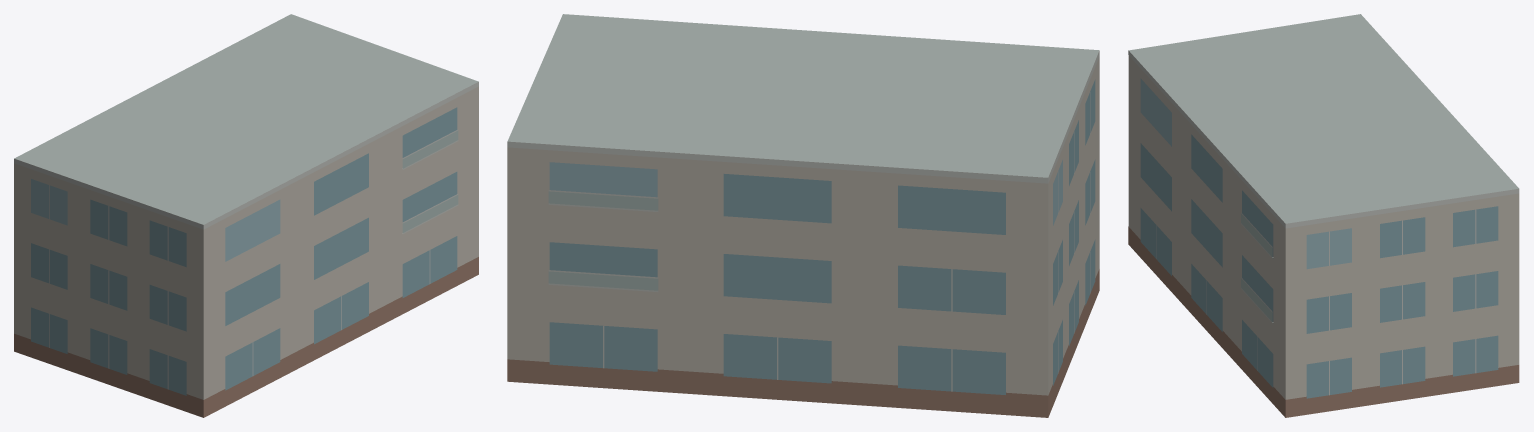
Rendered from survey-upis-32834164.glb.
The picture shows the model from 3 angles, left to right: view 1: azimuth 30°, elevation 25°; view 2: azimuth 150°, elevation 25°; view 3: azimuth 270°, elevation 25°; orthographic projection. The views are drawn at different scales.
Visible parts, largest first — view 1: survey-upis-32834164.tmp; view 2: survey-upis-32834164.tmp; view 3: survey-upis-32834164.tmp.
Boxes of the visible parts, x1,y1,x2,y2 form: survey-upis-32834164.tmp: [14, 14, 478, 417]; survey-upis-32834164.tmp: [507, 14, 1099, 417]; survey-upis-32834164.tmp: [1128, 14, 1519, 417].
Bounding box in the file's own units: 23.19 × 10 × 18.26.
